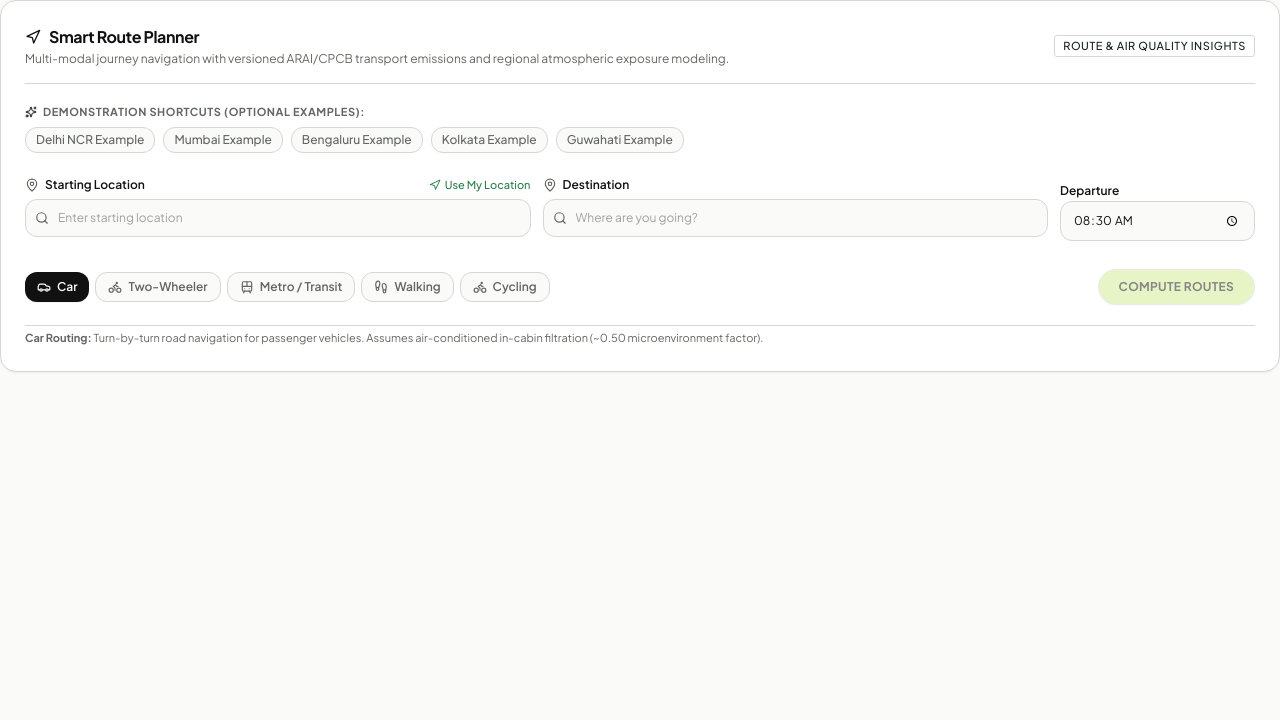
Test: RouteComparisonPanel UI Component › displays honest unsupported guidance when public transit is requested without fabricating schedules
The image size is (1280, 720).
Note: Click demonstration shortcut to set valid origin & destination
Click the button "Delhi NCR Example" at [90, 140], box [25,126,155,152]
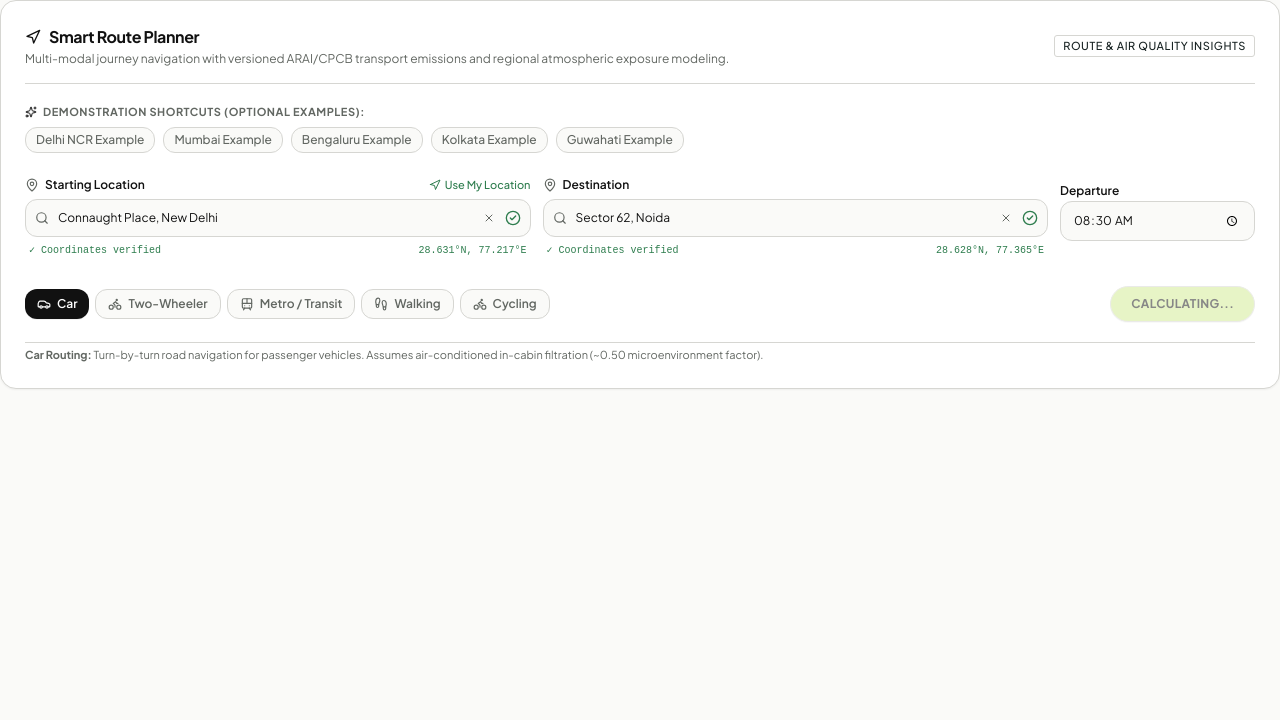
Click the tab "Metro / Transit" at [291, 304], box [227,289,355,319]
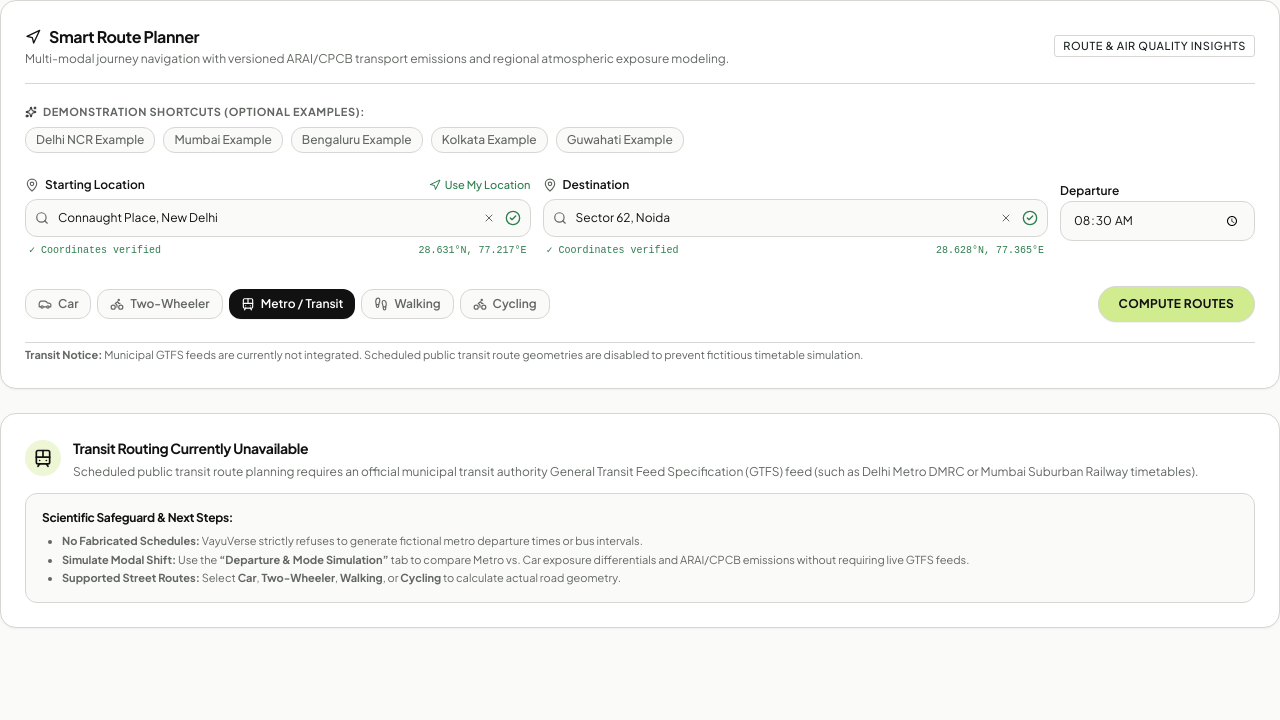
Now the heading "Transit Routing Currently Unavailable" is shown, box [73,438,308,456]
Now the text "No Fabricated Schedules:" is shown, box [62,534,200,547]
Now the text "“Departure & Mode Simulation”" is shown, box [219,553,389,566]
